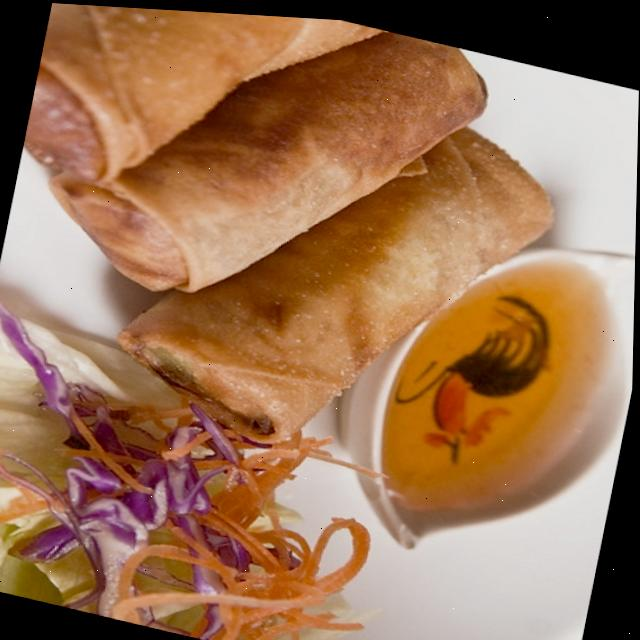炸货点心: (0, 0, 583, 555)
